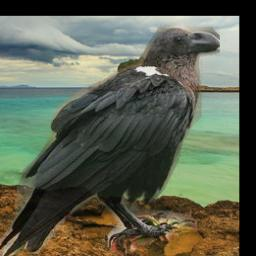Crow: (0, 26, 220, 256)
